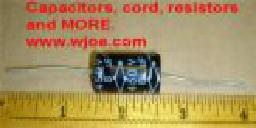Electrolytic-Capacitor: (49, 49, 212, 95)
